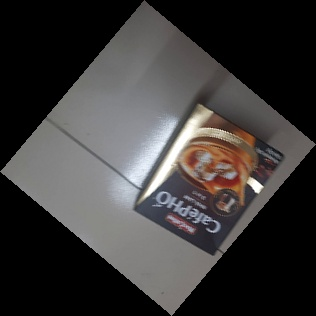CF pho: (130, 102, 285, 257)
